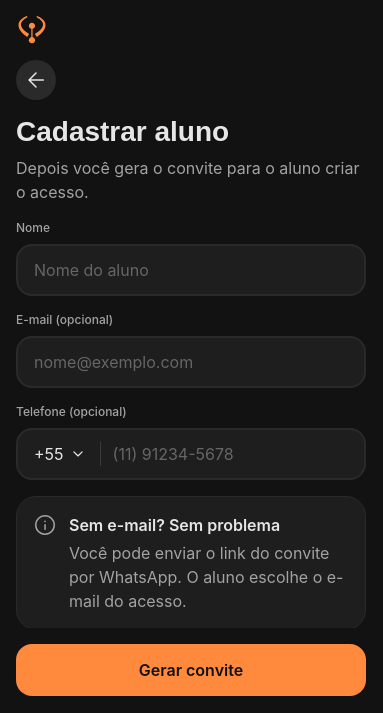
Test: Convite gerado (regras 46 e 57) › com e-mail: o texto pede para enviar agora; "Enviar por e-mail" é o principal
Type "Rafael Torres" into the field labelled "Nome" at point(191, 270), box left=34, top=246, right=348, bottom=294
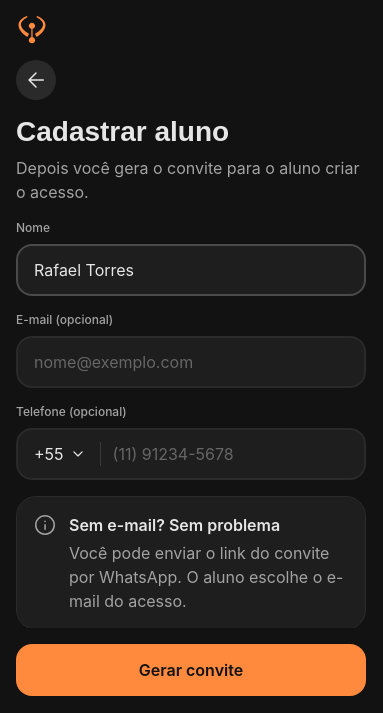
Type "rafael@exemplo.com" into the field labelled "E-mail (opcional)" at point(191, 362), box left=34, top=338, right=348, bottom=386
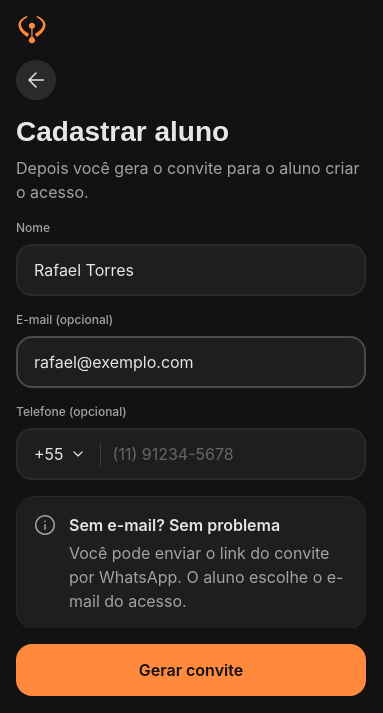
Click the button "Gerar convite" at point(191, 670), box left=16, top=644, right=366, bottom=696
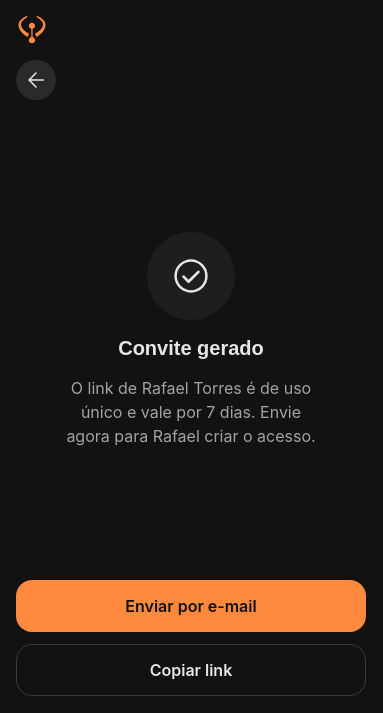
Now the text "O link de Rafael Torres é de uso único e vale por 7 dias. Envie agora para Rafael criar o acesso." is shown, box left=66, top=378, right=316, bottom=446
Now the button "Enviar por e-mail" is shown, box left=16, top=580, right=366, bottom=632
Now the button "Copiar link" is shown, box left=16, top=644, right=366, bottom=696
